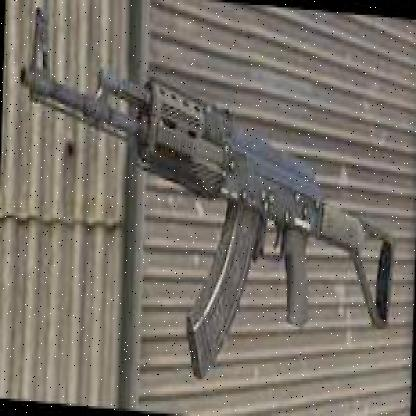rifle: (15, 5, 401, 386)
